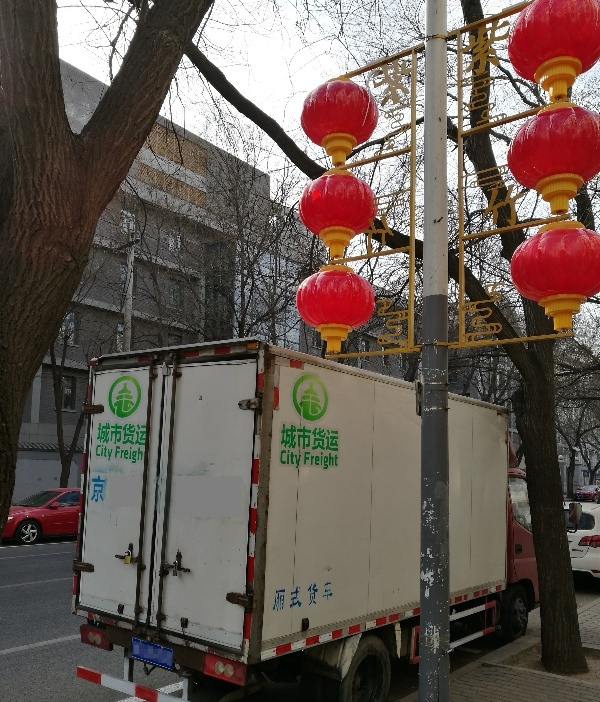text: (273, 581, 288, 614), (289, 581, 304, 614), (305, 581, 320, 614), (321, 581, 335, 614), (289, 423, 304, 453), (305, 423, 320, 453), (321, 423, 336, 453), (113, 422, 128, 447), (129, 422, 144, 447), (98, 422, 112, 447), (305, 451, 320, 471), (321, 451, 336, 471), (129, 446, 144, 465), (97, 476, 107, 503), (97, 444, 112, 461), (289, 450, 302, 469), (116, 446, 128, 465), (282, 423, 288, 453), (280, 450, 288, 469), (91, 476, 96, 503), (269, 581, 272, 614), (337, 423, 340, 453), (145, 422, 148, 447), (337, 451, 340, 471), (113, 444, 114, 461)
